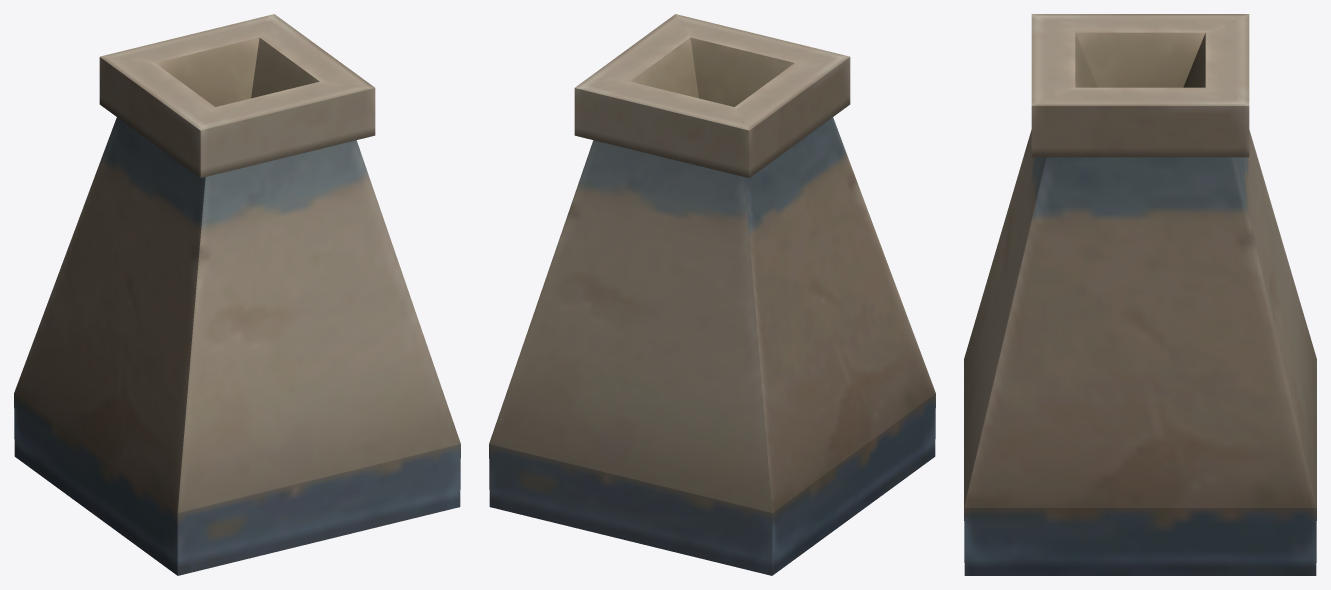
File: sc_sfksprops_002_d.FBX
3 views of the same model, side by side, from view 1: azimuth 30°, elevation 25°; view 2: azimuth 150°, elevation 25°; view 3: azimuth 270°, elevation 25° (orthographic). The views are drawn at different scales.
Visible parts, largest first — view 1: sc_sfksprops_002_d; view 2: sc_sfksprops_002_d; view 3: sc_sfksprops_002_d.
Part boxes in pixels (x1,y1,x2,y2): sc_sfksprops_002_d: (14,14,460,575); sc_sfksprops_002_d: (489,14,935,575); sc_sfksprops_002_d: (964,14,1316,575).
Size of the model in its own units: 0.7308 by 1.01 by 0.7308.
1 material, 1 textured.
